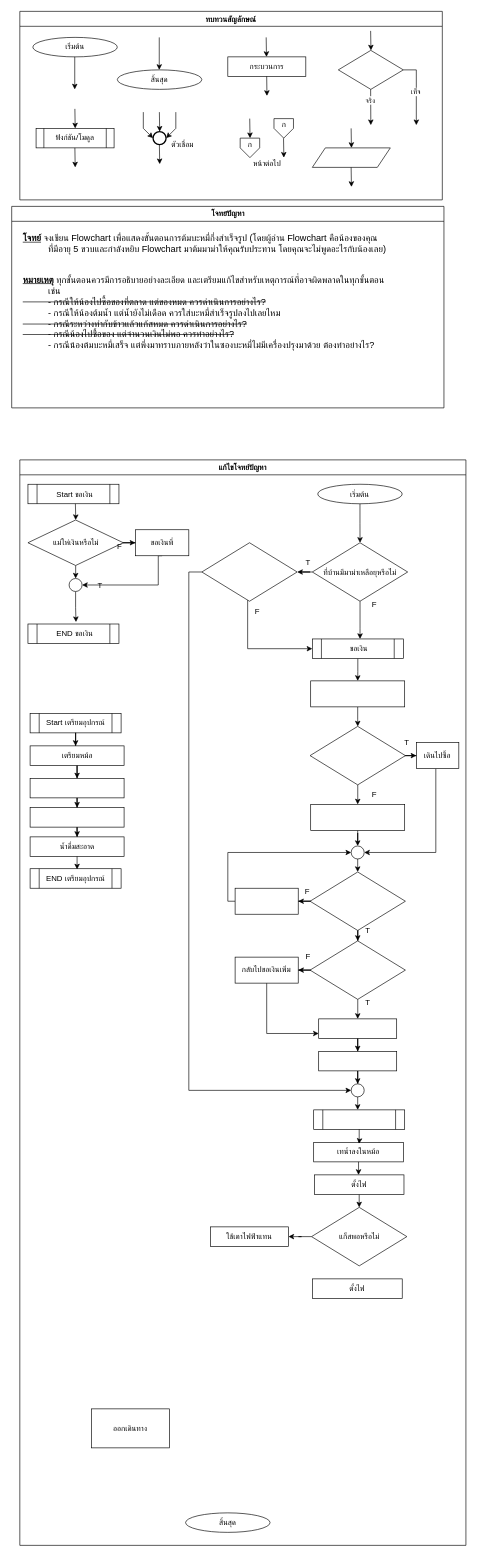
This 477x1557 diagram has some shape labels left out. The centre of each missing label's shape, as x and y in pixels:
กลับบ้าน: the point at 357,1061
ขอให้แม่ไปส่ง: the point at 357,817
ช้อน/ตะเกียบ: the point at 76,788
ซื้อมาม่า: the point at 357,1028
ประโยคเงื่อนไข: the point at 370,69
พี่อยากกินมาม่ารสที่อยู่ในตู้หรือไม่: the point at 249,571
ร้านมีมาม่าหรือไม่: the point at 357,900
ร้านอยู่ใกล้หรือไม่: the point at 357,755
ออกเดินทางไปซื้อมาม่า: the point at 357,693
เงินมีพอหรือไม่: the point at 357,969
เตรียมอุปกรณ์: the point at 359,1119
เตาแก๊สหรือเตาไฟฟ้า: the point at 76,817
แสดงผล/รับค่า: the point at 351,157
ไปร้านถัดไป: the point at 266,901
